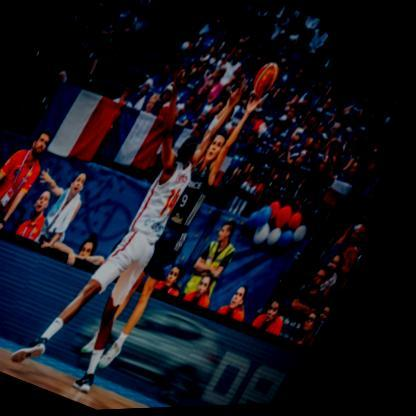basketball: (250, 61, 286, 99)
